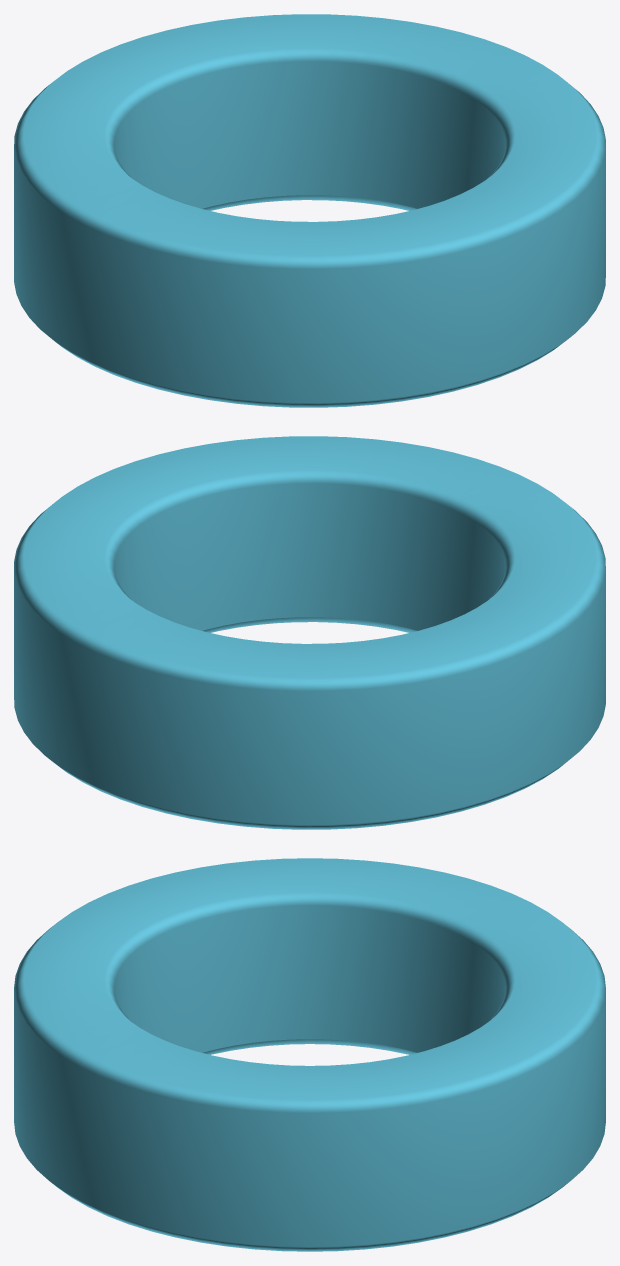
The picture shows the model from 3 angles, top to bottom: view 1: azimuth 30°, elevation 25°; view 2: azimuth 150°, elevation 25°; view 3: azimuth 270°, elevation 25°; orthographic projection.
Parts seen in each view (by area): view 1: seal_body; view 2: seal_body; view 3: seal_body.
Boxes of the visible parts, <box> form: seal_body: <box>14,14,605,407</box>; seal_body: <box>14,436,605,829</box>; seal_body: <box>14,858,605,1251</box>.
Bounding box in the file's own units: 0.0265 × 0.0075 × 0.0265.
